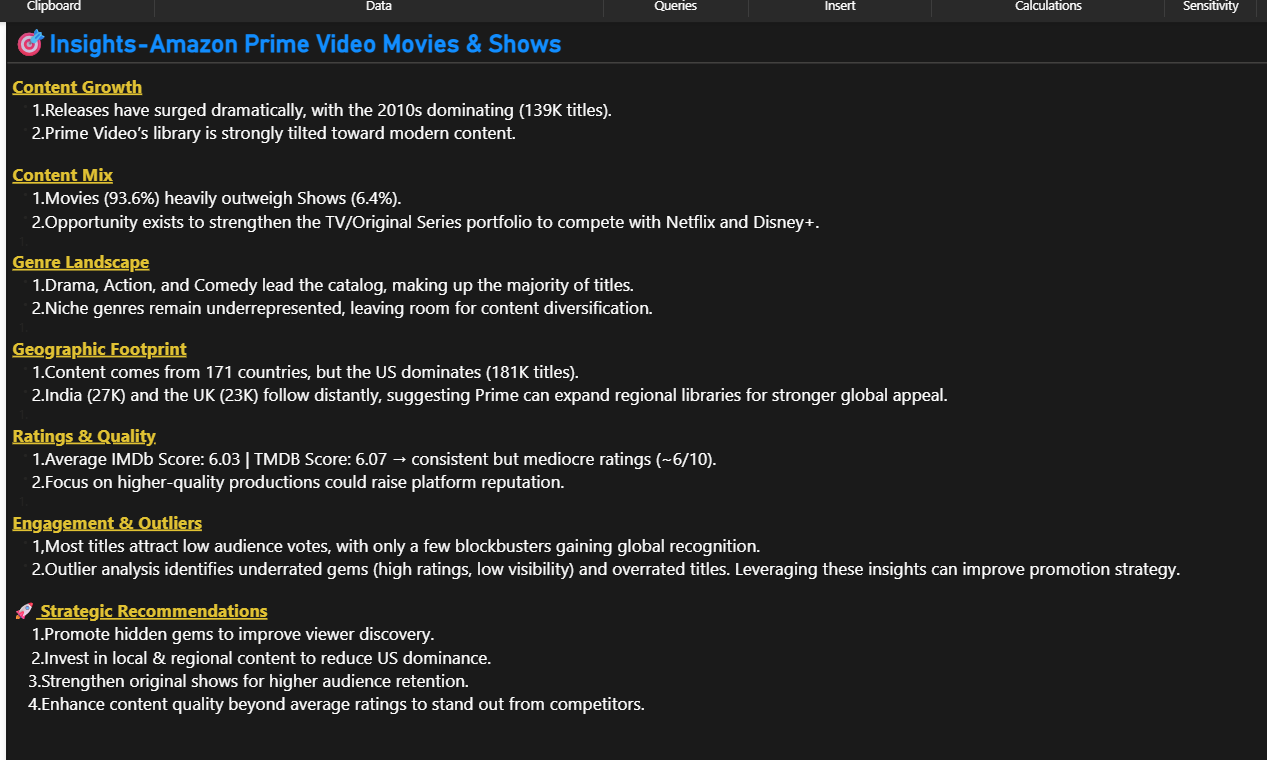

The dashboard page shown, as its layout file describes it:
{"tool":"powerbi","page":{"name":"Insights Summary","canvas":[1280,720],"ordinal":1},"visuals":[{"type":"textbox","title":"🎯Insights-Amazon Prime Video Movies & Shows","box":[10,0,1270,719],"z":0}]}

Visuals, with their boxes on the page's 1280x720 design canvas (x1, y1, x2, y2). These are canvas units, not pixel positions in the 1267x760 screenshot, which may show the page scaled, cropped or inside an application window:
"🎯Insights-Amazon Prime Video Movies & Shows" textbox: <box>10,0,1280,719</box>
